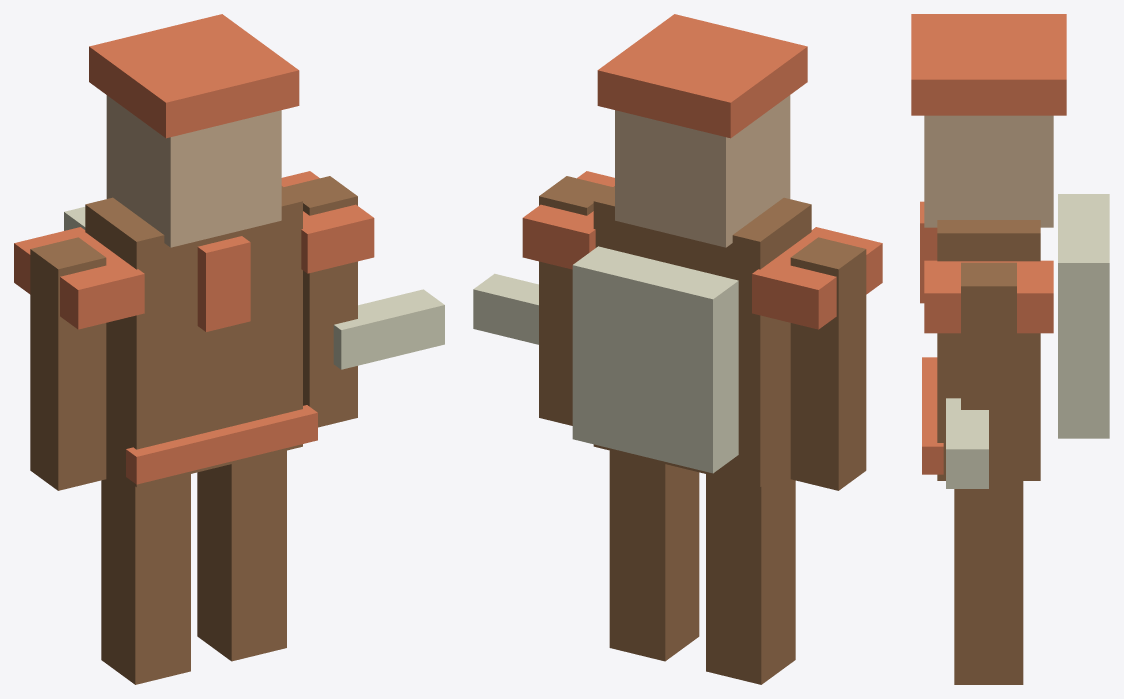
Rendered from 05_orin_riftwalker_pilgrim_near_sonic.glb.
The picture shows the model from 3 angles, left to right: view 1: azimuth 30°, elevation 25°; view 2: azimuth 150°, elevation 25°; view 3: azimuth 270°, elevation 25°; orthographic projection.
Visible parts, largest first — view 1: Orin Riftwalker, Pilgrim near Sonic; view 2: Orin Riftwalker, Pilgrim near Sonic; view 3: Orin Riftwalker, Pilgrim near Sonic.
Part boxes in pixels (x1,y1,x2,y2): Orin Riftwalker, Pilgrim near Sonic: [14, 14, 444, 684]; Orin Riftwalker, Pilgrim near Sonic: [473, 14, 882, 684]; Orin Riftwalker, Pilgrim near Sonic: [911, 14, 1109, 684].
Size of the model in its own units: 1.1 by 1.65 by 0.4925.
